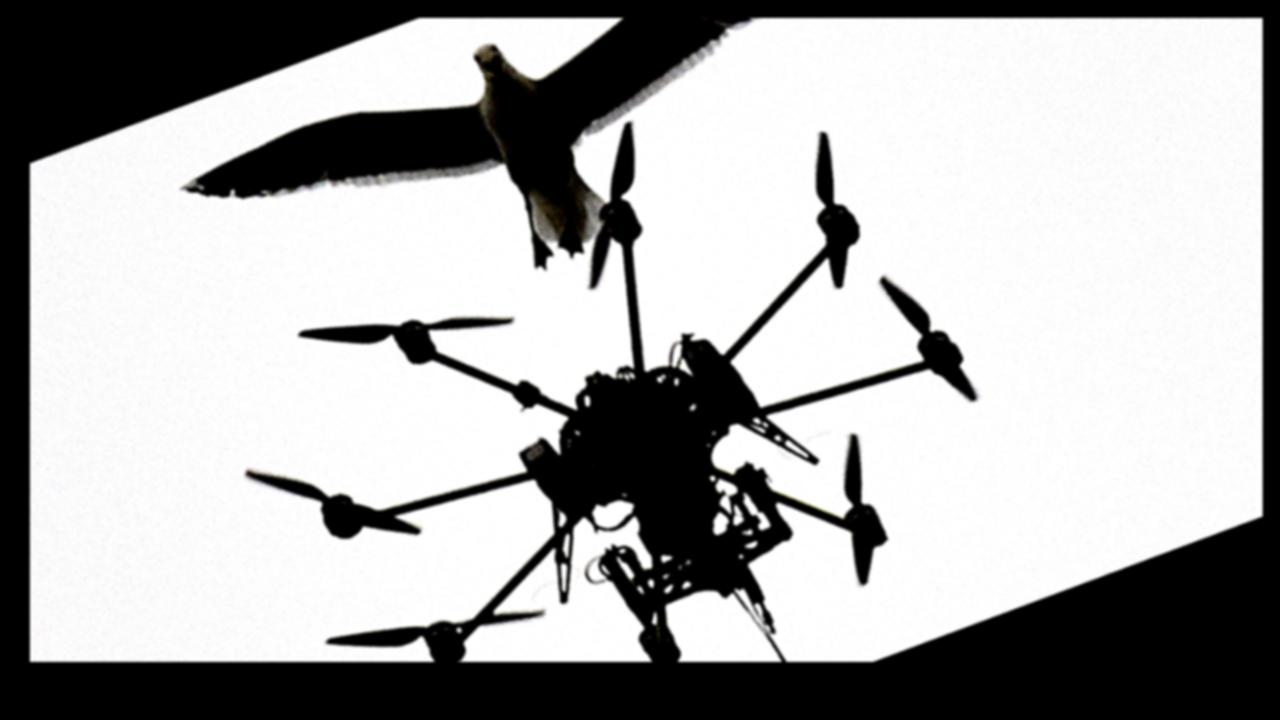Bird: (172, 4, 787, 277)
UAV: (216, 127, 1043, 653)
